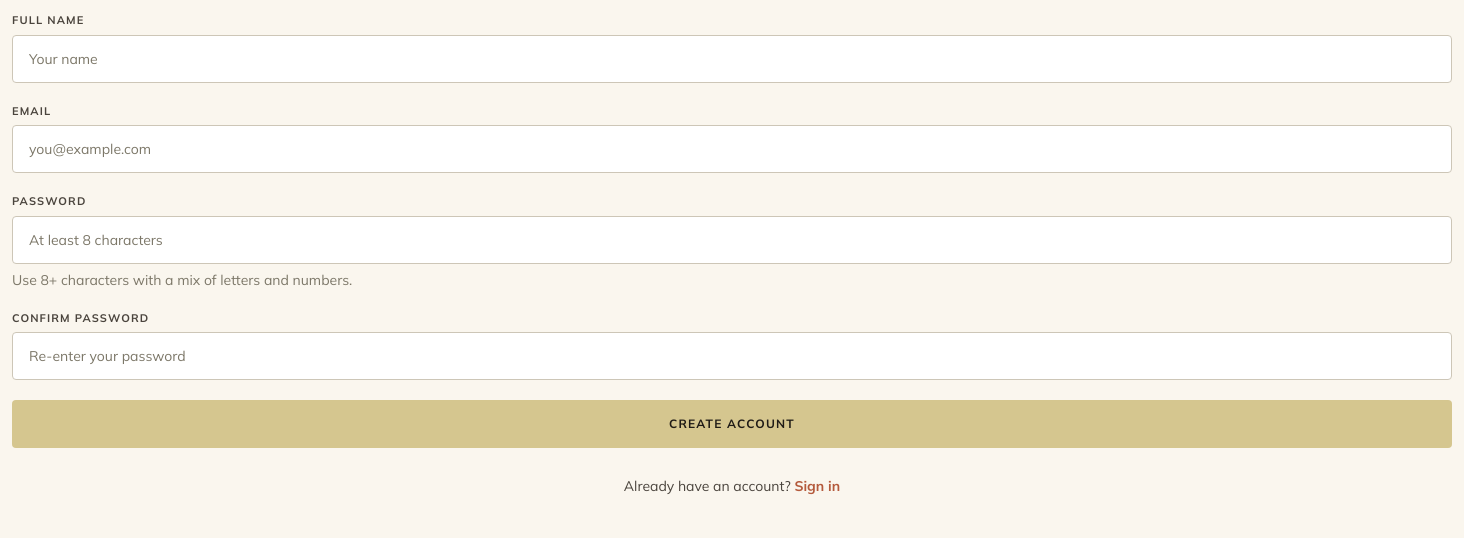
Scenario: RegisterForm › shows an error when passwords do not match
Type "Jane Doe" into the field with test id "register-name-input" at (732, 58), box [12,34,1452,82]
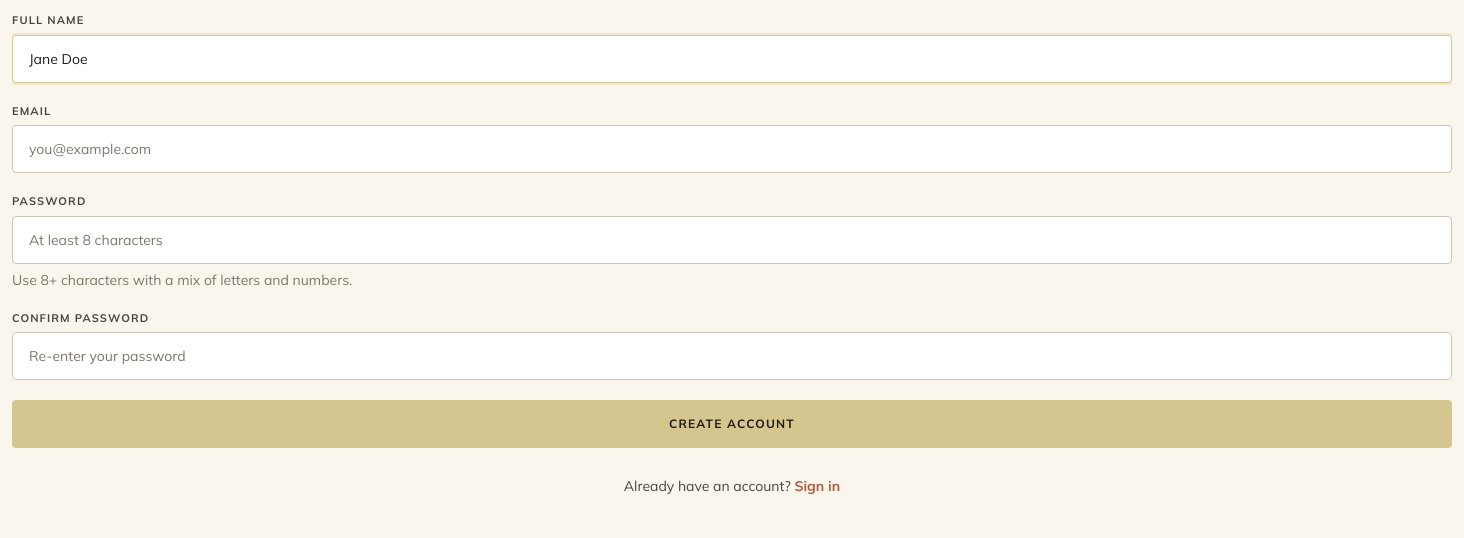
Type "jane@example.com" into the field with test id "register-email-input" at (732, 149), box [12,125,1452,173]
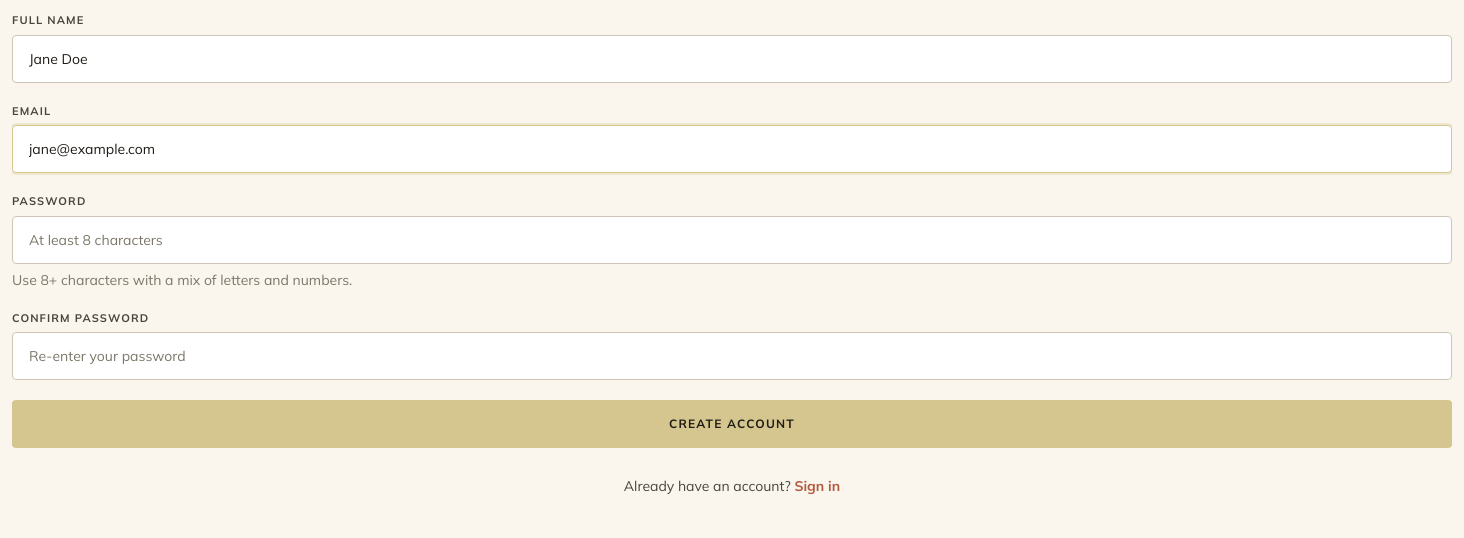
Type "password123" into the password field with test id "register-password-input" at (732, 240), box [12,216,1452,264]
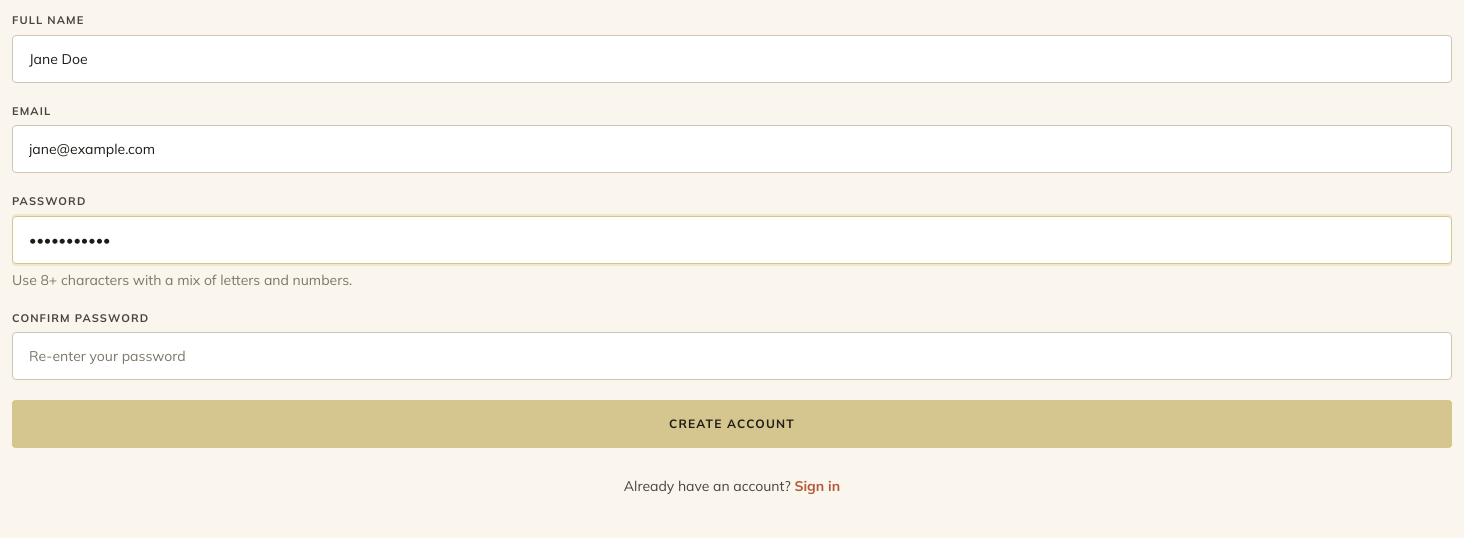
Type "password999" into the password field with test id "register-confirm-password-input" at (732, 356), box [12,332,1452,380]
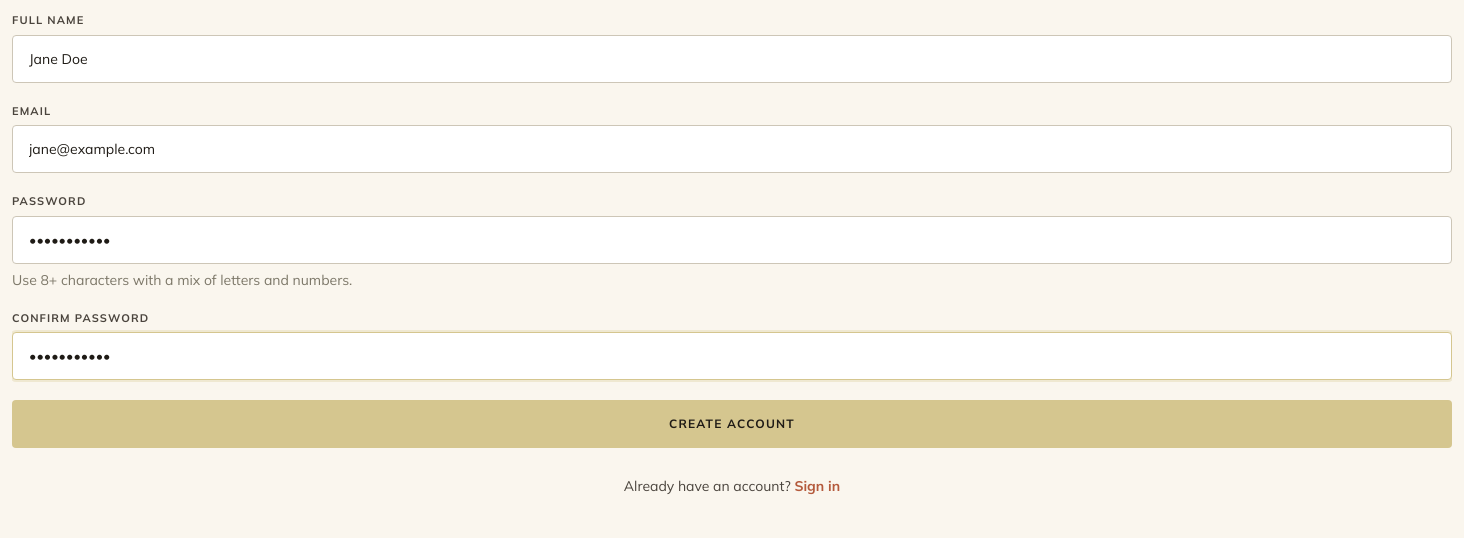
Click the button with test id "register-submit-button" at (732, 424), box [12,400,1452,448]
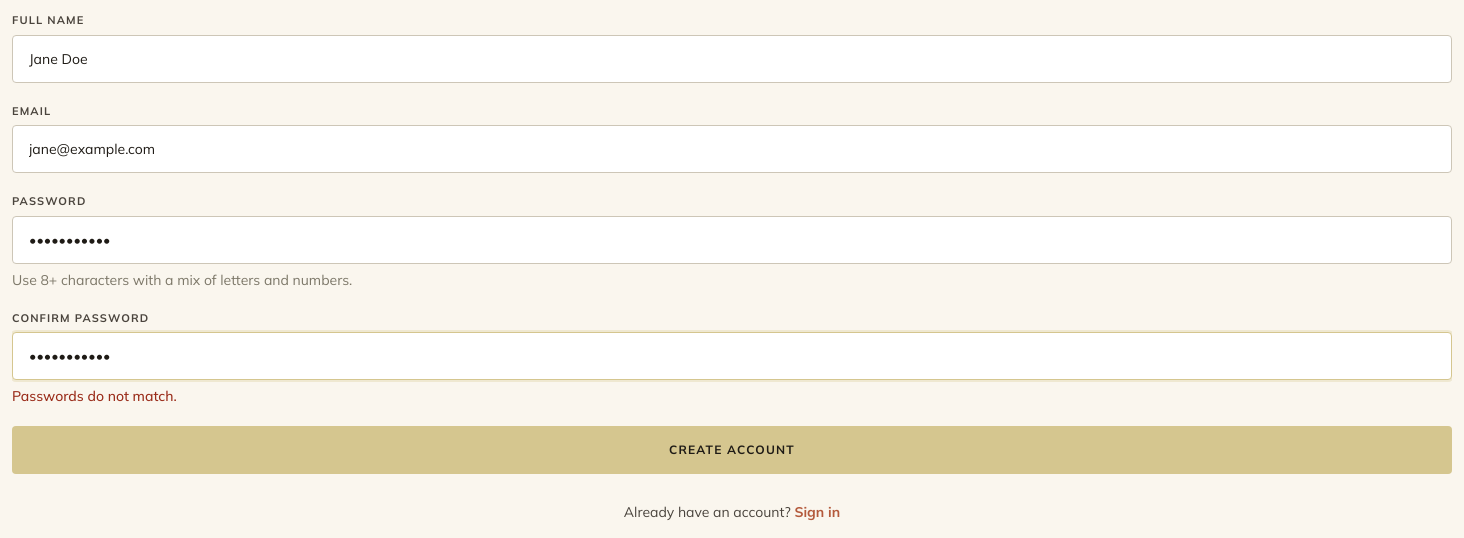
Expected: the text "Passwords do not match." is shown, [12,387,177,405]
